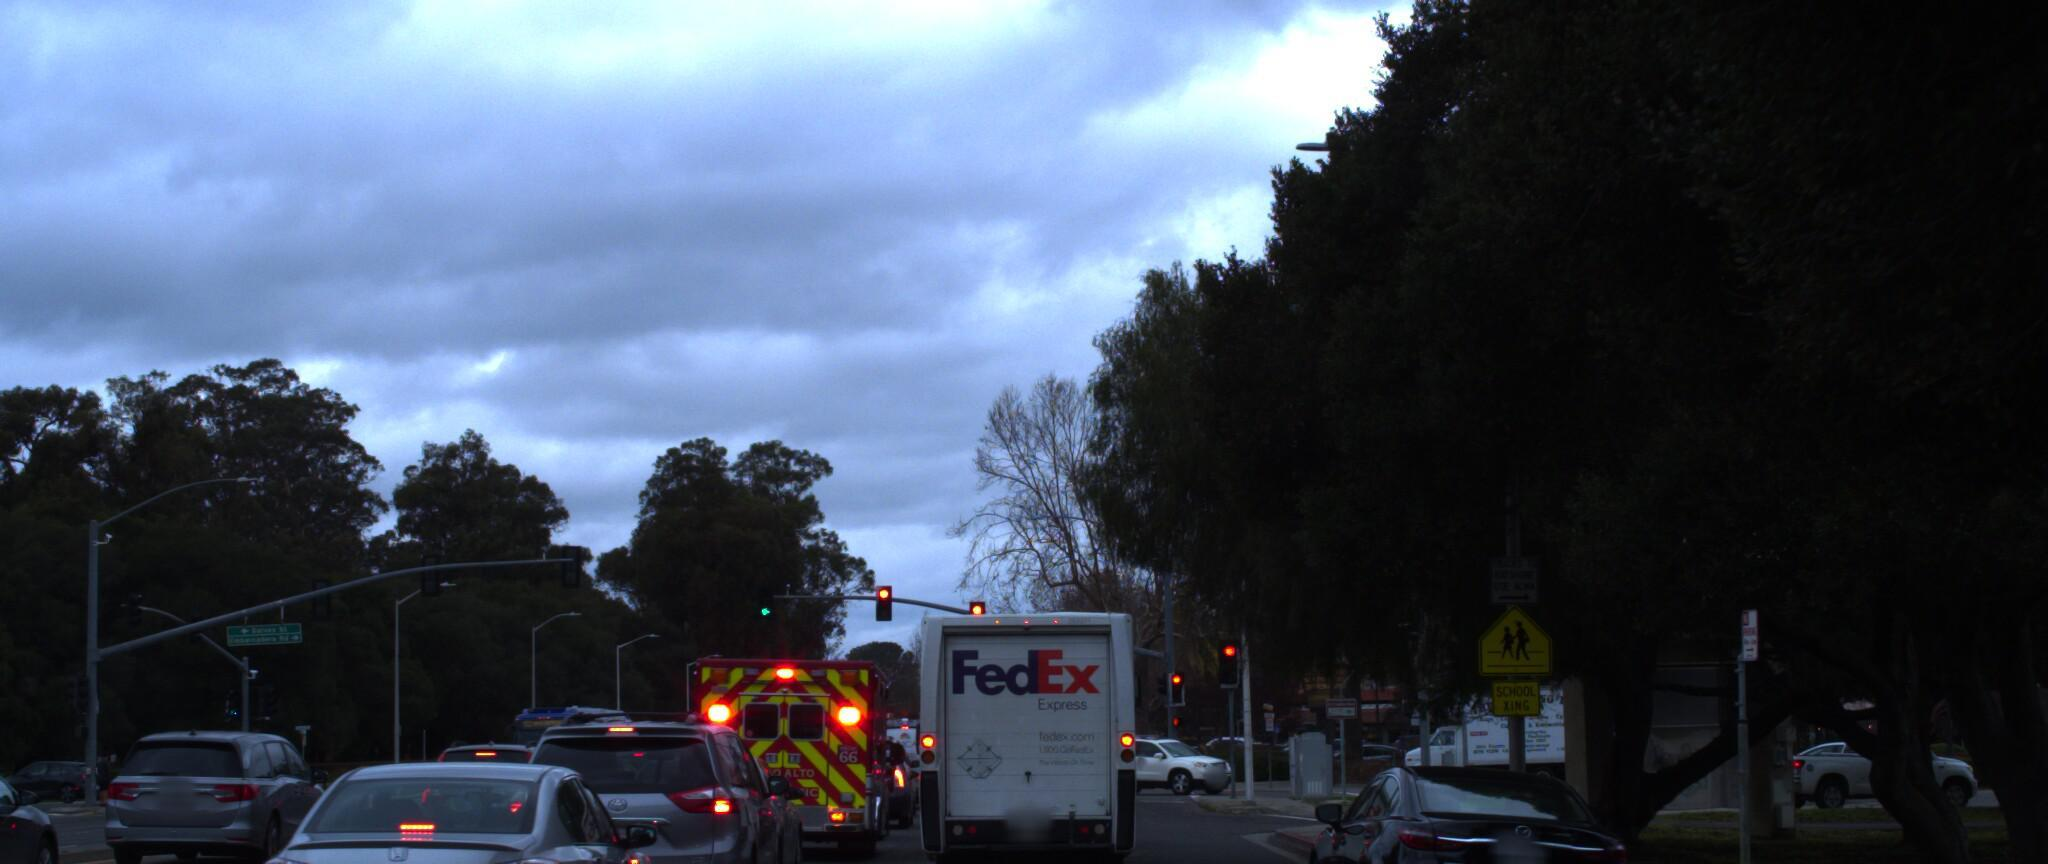car: (219, 732, 694, 864), (504, 696, 795, 864), (1287, 737, 1640, 864), (132, 735, 340, 860), (1765, 718, 1988, 801), (0, 747, 71, 864)
emergency_vehicle: (682, 617, 903, 863)
truck: (909, 591, 1145, 864)
